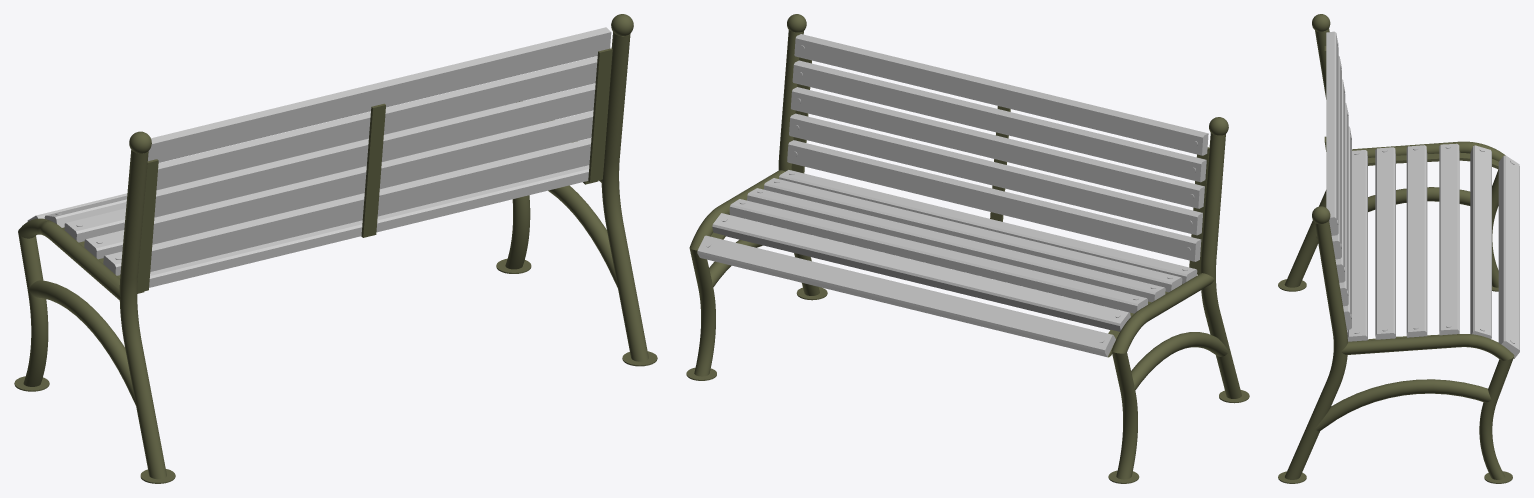
The picture shows the model from 3 angles, left to right: view 1: azimuth 30°, elevation 25°; view 2: azimuth 150°, elevation 25°; view 3: azimuth 270°, elevation 25°; orthographic projection. The views are drawn at different scales.
Visible parts, largest first — view 1: mesh3_mesh3-geometry, mesh11_mesh11-geometry, mesh37_mesh37-geometry, mesh14_mesh14-geometry, mesh24_mesh24-geometry, mesh1_mesh1-geometry, mesh35_mesh35-geometry, mesh50_mesh50-geometry, mesh9_mesh9-geometry, mesh40_mesh40-geometry; view 2: mesh3_mesh3-geometry, mesh11_mesh11-geometry, mesh14_mesh14-geometry, mesh40_mesh40-geometry, mesh24_mesh24-geometry, mesh37_mesh37-geometry, mesh56_mesh56-geometry; view 3: mesh3_mesh3-geometry, mesh40_mesh40-geometry, mesh37_mesh37-geometry, mesh50_mesh50-geometry, mesh11_mesh11-geometry, mesh14_mesh14-geometry, mesh24_mesh24-geometry, mesh22_mesh22-geometry, mesh4_mesh4-geometry, mesh30_mesh30-geometry.
Part boxes in pixels (x1=…): mesh3_mesh3-geometry: x1=27, y1=27, x2=611, y2=287; mesh11_mesh11-geometry: x1=119, y1=150, x2=166, y2=479; mesh37_mesh37-geometry: x1=601, y1=32, x2=648, y2=361; mesh14_mesh14-geometry: x1=18, y1=218, x2=120, y2=386; mesh24_mesh24-geometry: x1=28, y1=280, x2=136, y2=405; mesh1_mesh1-geometry: x1=361, y1=103, x2=385, y2=237; mesh35_mesh35-geometry: x1=588, y1=48, x2=612, y2=182; mesh50_mesh50-geometry: x1=548, y1=185, x2=618, y2=287; mesh9_mesh9-geometry: x1=137, y1=159, x2=158, y2=292; mesh40_mesh40-geometry: x1=505, y1=101, x2=602, y2=269; mesh3_mesh3-geometry: x1=697, y1=34, x2=1208, y2=357; mesh11_mesh11-geometry: x1=1200, y1=133, x2=1241, y2=398; mesh14_mesh14-geometry: x1=1111, y1=273, x2=1214, y2=479; mesh40_mesh40-geometry: x1=689, y1=170, x2=785, y2=376; mesh24_mesh24-geometry: x1=1131, y1=332, x2=1228, y2=390; mesh37_mesh37-geometry: x1=778, y1=30, x2=819, y2=295; mesh56_mesh56-geometry: x1=803, y1=41, x2=924, y2=85; mesh3_mesh3-geometry: x1=1326, y1=31, x2=1519, y2=357; mesh40_mesh40-geometry: x1=1341, y1=334, x2=1514, y2=479; mesh37_mesh37-geometry: x1=1285, y1=221, x2=1347, y2=479; mesh50_mesh50-geometry: x1=1315, y1=379, x2=1491, y2=431; mesh11_mesh11-geometry: x1=1284, y1=28, x2=1329, y2=287; mesh14_mesh14-geometry: x1=1352, y1=141, x2=1505, y2=287; mesh24_mesh24-geometry: x1=1315, y1=187, x2=1470, y2=238; mesh22_mesh22-geometry: x1=1368, y1=152, x2=1498, y2=169; mesh4_mesh4-geometry: x1=1312, y1=14, x2=1330, y2=31; mesh30_mesh30-geometry: x1=1312, y1=206, x2=1330, y2=223.
Size of the model in its own units: 0.783 by 0.4835 by 0.3914.
